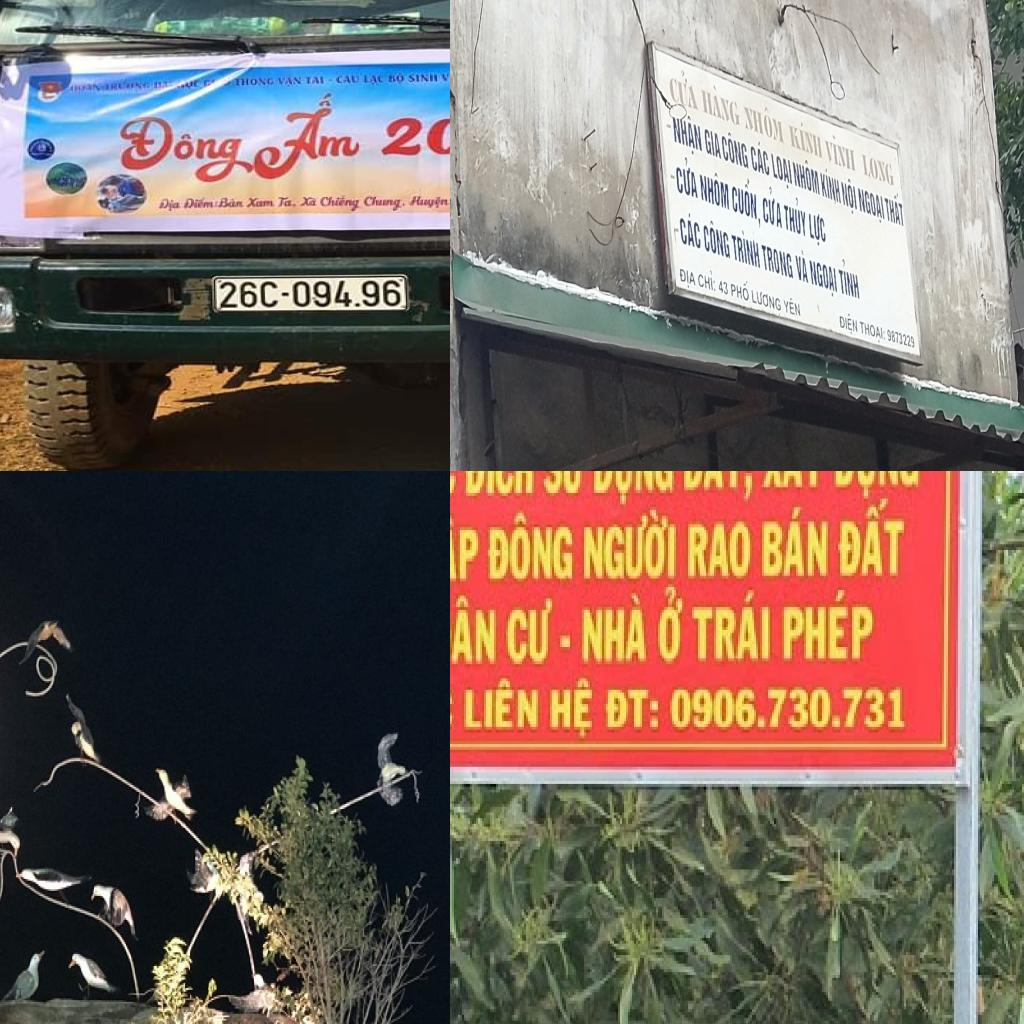text: (668, 684, 910, 735), (252, 92, 363, 186), (119, 115, 255, 187), (582, 507, 680, 584), (782, 587, 878, 664), (486, 507, 576, 587), (690, 587, 774, 664), (836, 496, 908, 581), (216, 279, 406, 311), (760, 504, 832, 582), (580, 590, 650, 667), (504, 596, 574, 670), (462, 676, 544, 736), (686, 516, 754, 584), (450, 593, 500, 670), (592, 471, 678, 510), (377, 115, 450, 160), (548, 673, 596, 741), (834, 471, 924, 504), (680, 471, 758, 507), (450, 513, 484, 595), (656, 584, 686, 667), (462, 471, 538, 501), (742, 100, 787, 147), (699, 81, 741, 127), (786, 117, 824, 162), (730, 172, 759, 230), (667, 65, 700, 113), (670, 112, 703, 159), (823, 131, 858, 175), (760, 471, 830, 493), (697, 167, 730, 212), (759, 241, 795, 282), (542, 471, 590, 501), (730, 228, 762, 272), (807, 256, 839, 300), (859, 151, 896, 189), (701, 218, 732, 261), (720, 128, 750, 172), (792, 154, 822, 198), (856, 184, 886, 226), (673, 155, 700, 201), (835, 256, 862, 302), (782, 194, 808, 241), (760, 184, 784, 232), (677, 211, 702, 252), (818, 165, 842, 207), (770, 151, 794, 192), (319, 193, 363, 214), (748, 138, 771, 178), (884, 189, 906, 229), (363, 195, 409, 214), (750, 287, 782, 314), (807, 209, 827, 251), (858, 318, 886, 346), (840, 175, 859, 216), (703, 126, 723, 162), (886, 326, 916, 350), (407, 194, 450, 210), (182, 196, 220, 213), (836, 309, 858, 337), (794, 248, 810, 286), (728, 276, 750, 303), (677, 266, 699, 292), (696, 268, 717, 294), (782, 295, 802, 320), (232, 77, 276, 88), (408, 72, 442, 85), (218, 195, 247, 210), (157, 197, 184, 213), (333, 72, 362, 86), (246, 197, 278, 209), (275, 76, 305, 88), (362, 73, 387, 87), (386, 71, 407, 85), (278, 196, 300, 208), (299, 195, 319, 208), (305, 74, 326, 86), (718, 277, 730, 298), (440, 71, 450, 84)
